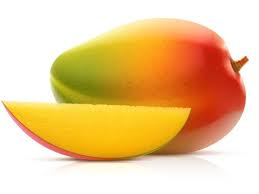mango: (46, 9, 257, 152), (3, 101, 192, 164)
